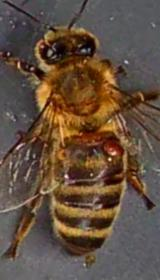varroa_mite: (97, 136, 123, 158)
